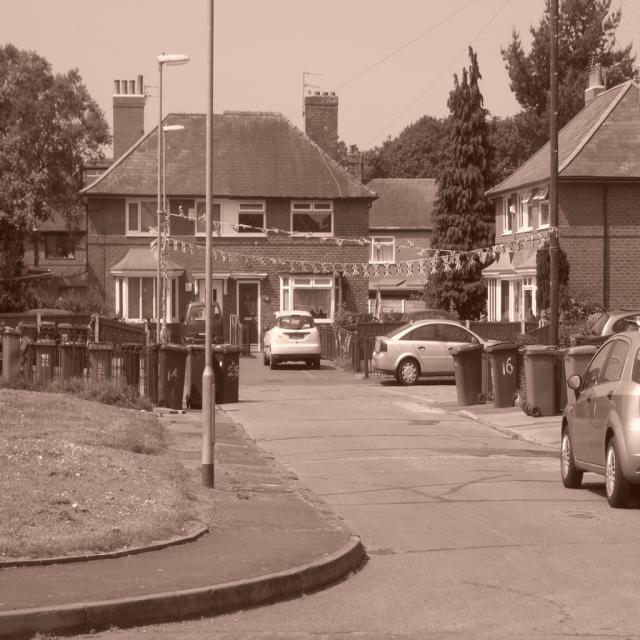car: (263, 303, 322, 373)
